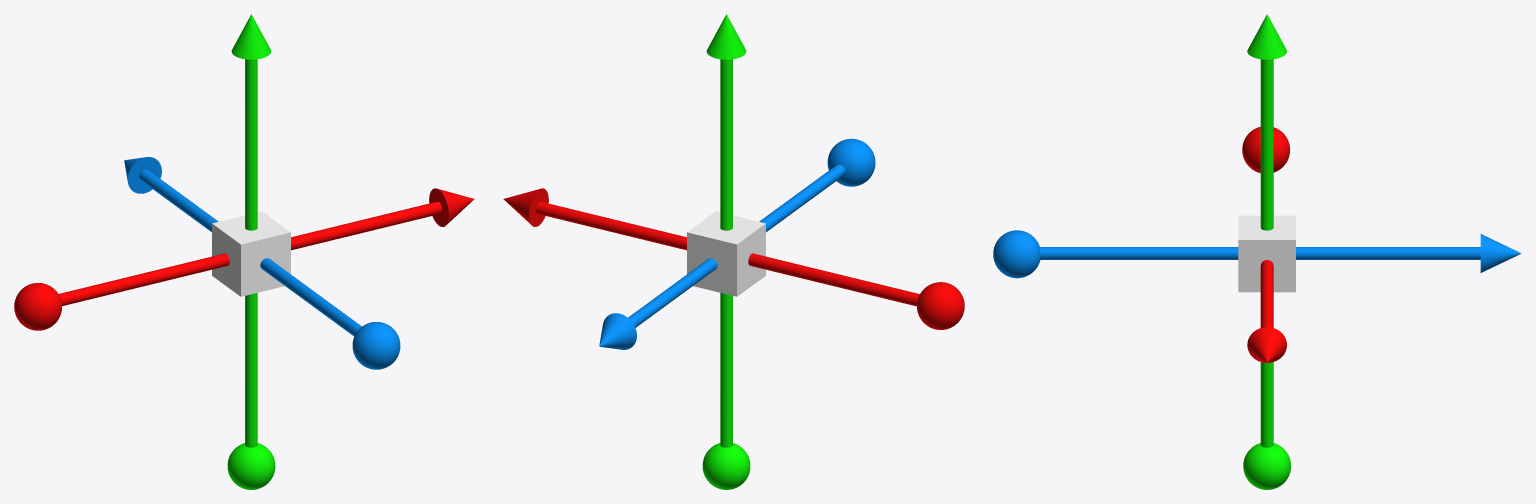
Rendered from axes.fbx.
The picture shows the model from 3 angles, left to right: view 1: azimuth 30°, elevation 25°; view 2: azimuth 150°, elevation 25°; view 3: azimuth 270°, elevation 25°; orthographic projection.
Parts seen in each view (by area): view 1: cube, Red_cylinder, Green_cylinder, Blue_cylinder, Blue_sphere, Red_sphere, Green_sphere, Green_cone, Red_cone, Blue_cone; view 2: cube, Red_cylinder, Green_cylinder, Blue_cylinder, Red_sphere, Green_sphere, Blue_sphere, Blue_cone, Green_cone, Red_cone; view 3: Blue_cylinder, cube, Green_cylinder, Blue_sphere, Green_sphere, Red_sphere, Red_cone, Green_cone, Red_cylinder, Blue_cone.
Part boxes in pixels (left/top/right/bottom): cube: left=212, top=211, right=290, bottom=296; Red_cylinder: left=58, top=201, right=442, bottom=306; Green_cylinder: left=245, top=59, right=257, bottom=447; Blue_cylinder: left=139, top=169, right=361, bottom=336; Blue_sphere: left=352, top=322, right=400, bottom=369; Red_sphere: left=14, top=283, right=61, bottom=330; Green_sphere: left=227, top=443, right=275, bottom=489; Green_cone: left=231, top=14, right=271, bottom=59; Red_cone: left=429, top=188, right=474, bottom=226; Blue_cone: left=124, top=157, right=161, bottom=193; cube: left=687, top=211, right=765, bottom=296; Red_cylinder: left=535, top=201, right=919, bottom=306; Green_cylinder: left=720, top=59, right=732, bottom=447; Blue_cylinder: left=628, top=164, right=845, bottom=327; Red_sphere: left=917, top=282, right=964, bottom=329; Green_sphere: left=702, top=443, right=750, bottom=489; Blue_sphere: left=827, top=138, right=875, bottom=186; Blue_cone: left=599, top=313, right=636, bottom=349; Green_cone: left=706, top=14, right=746, bottom=59; Red_cone: left=503, top=188, right=548, bottom=226; Blue_cylinder: left=1040, top=247, right=1480, bottom=259; cube: left=1238, top=215, right=1295, bottom=292; Green_cylinder: left=1260, top=59, right=1273, bottom=447; Blue_sphere: left=993, top=230, right=1040, bottom=278; Green_sphere: left=1243, top=443, right=1290, bottom=489; Red_sphere: left=1242, top=126, right=1289, bottom=172; Red_cone: left=1247, top=327, right=1286, bottom=362; Green_cone: left=1247, top=14, right=1286, bottom=59; Red_cylinder: left=1260, top=260, right=1273, bottom=327; Blue_cone: left=1480, top=234, right=1521, bottom=272.
Size of the model in its own units: 165 by 163 by 165.
